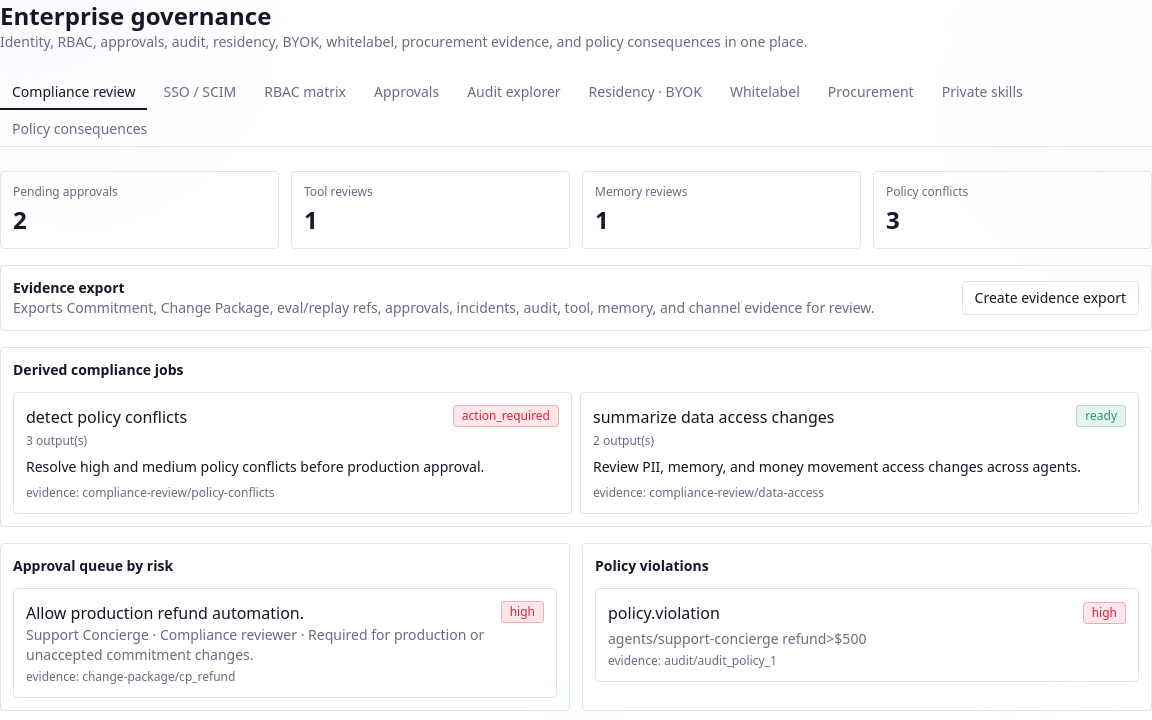
Scenario: GovernOverview › creates compliance evidence exports from the default pane
Click the button with test id "compliance-export": click(1050, 298) [962,281,1139,315]
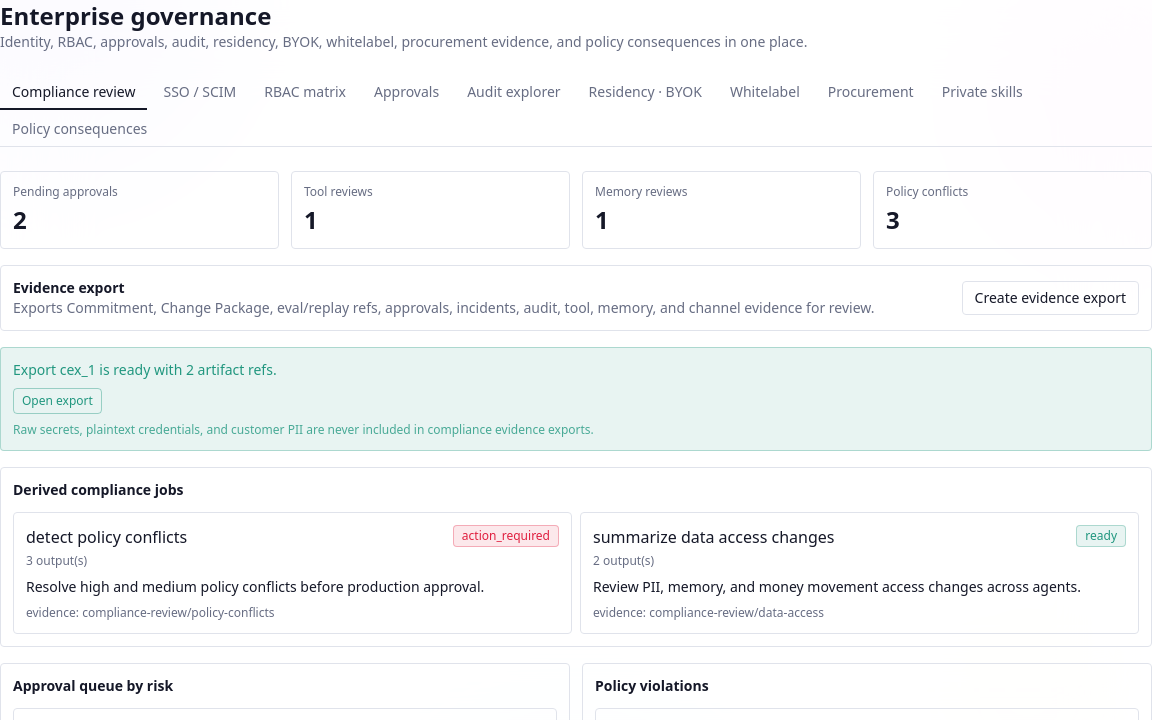
expect the element with test id "compliance-export-result" shows "cex_1": met, box [60,360,96,379]
expect the element with test id "compliance-export-result" shows "plaintext credentials": met, box [13,421,594,438]
